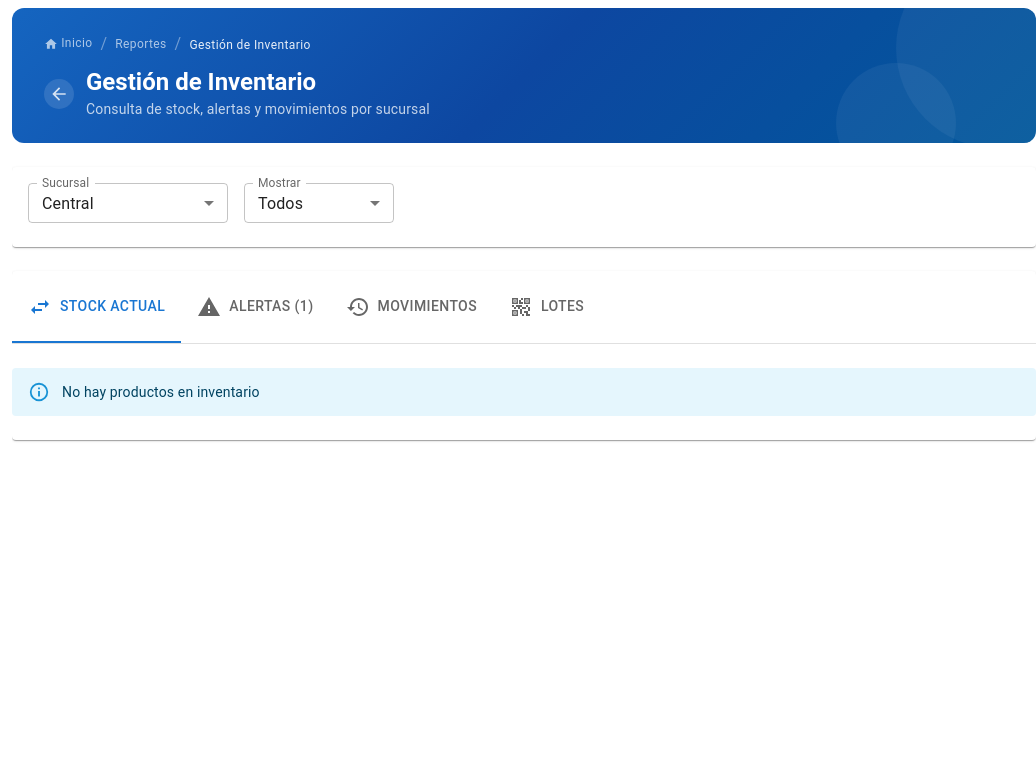
Test: InventarioPage › muestra alerta de stock bajo en la tab Alertas
// Esperar que cargue y clicar la tab de alertas
Click the tab "Alertas (1)" at (255, 307), box x1=181 y1=271 x2=330 y2=343
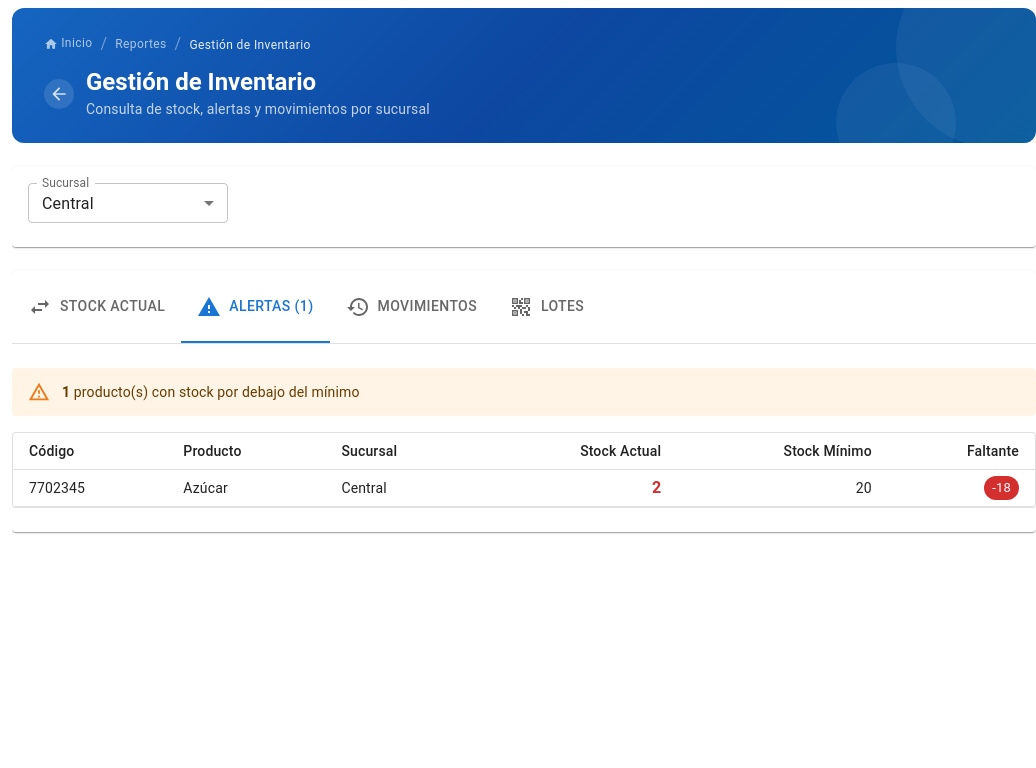
Now the text "Azúcar" is shown, box x1=167 y1=470 x2=325 y2=507
